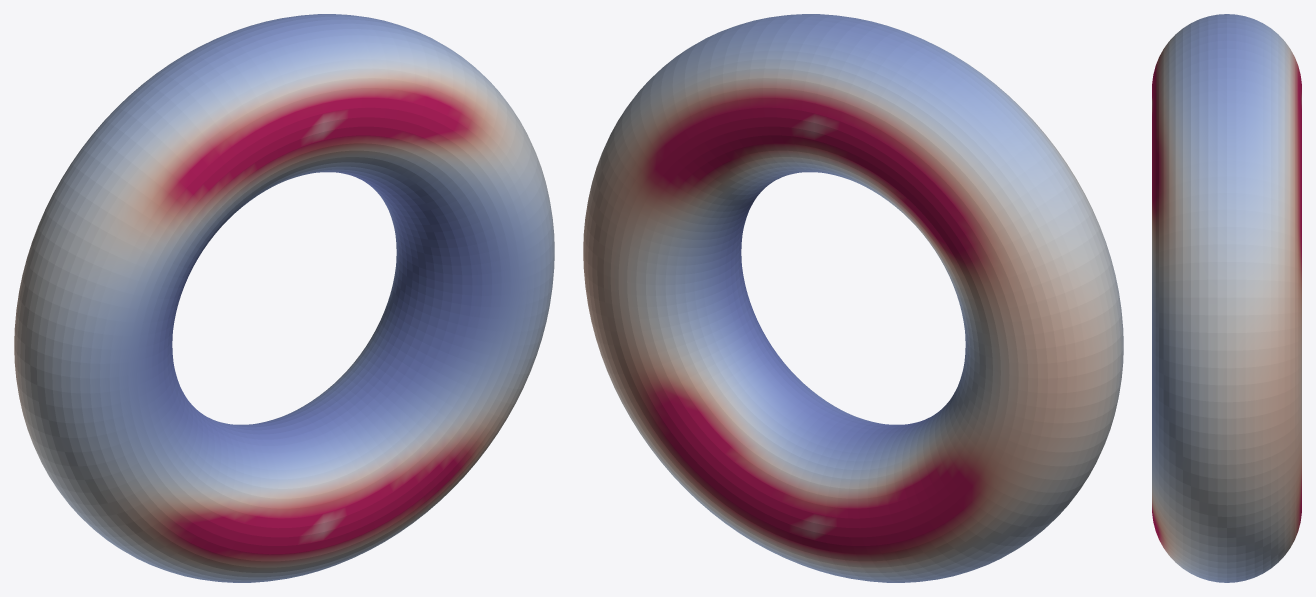
The picture shows the model from 3 angles, left to right: view 1: azimuth 30°, elevation 25°; view 2: azimuth 150°, elevation 25°; view 3: azimuth 270°, elevation 25°; orthographic projection. The views are drawn at different scales.
Visible parts, largest first — view 1: world; view 2: world; view 3: world.
Boxes of the visible parts, bbox=[...] form: world: bbox=[14, 14, 554, 582]; world: bbox=[583, 14, 1123, 582]; world: bbox=[1152, 14, 1301, 582].
Bounding box in the file's own units: 21.73 × 21.73 × 5.72.
